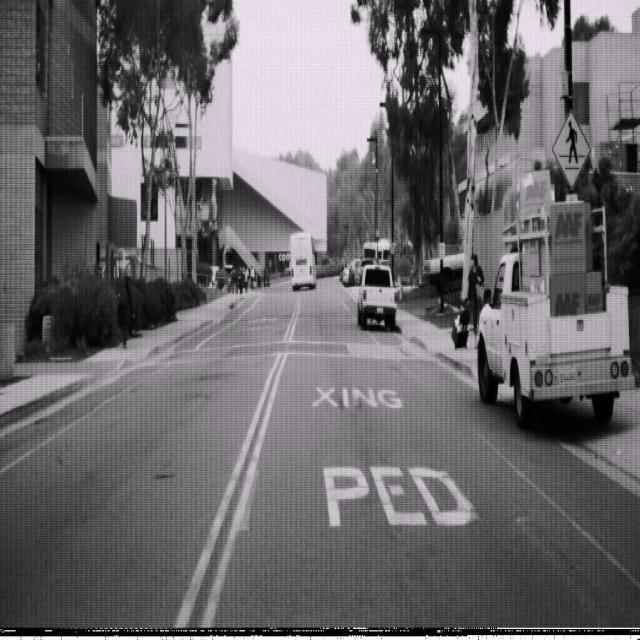pedestrianCrossing: (551, 108, 591, 190)
